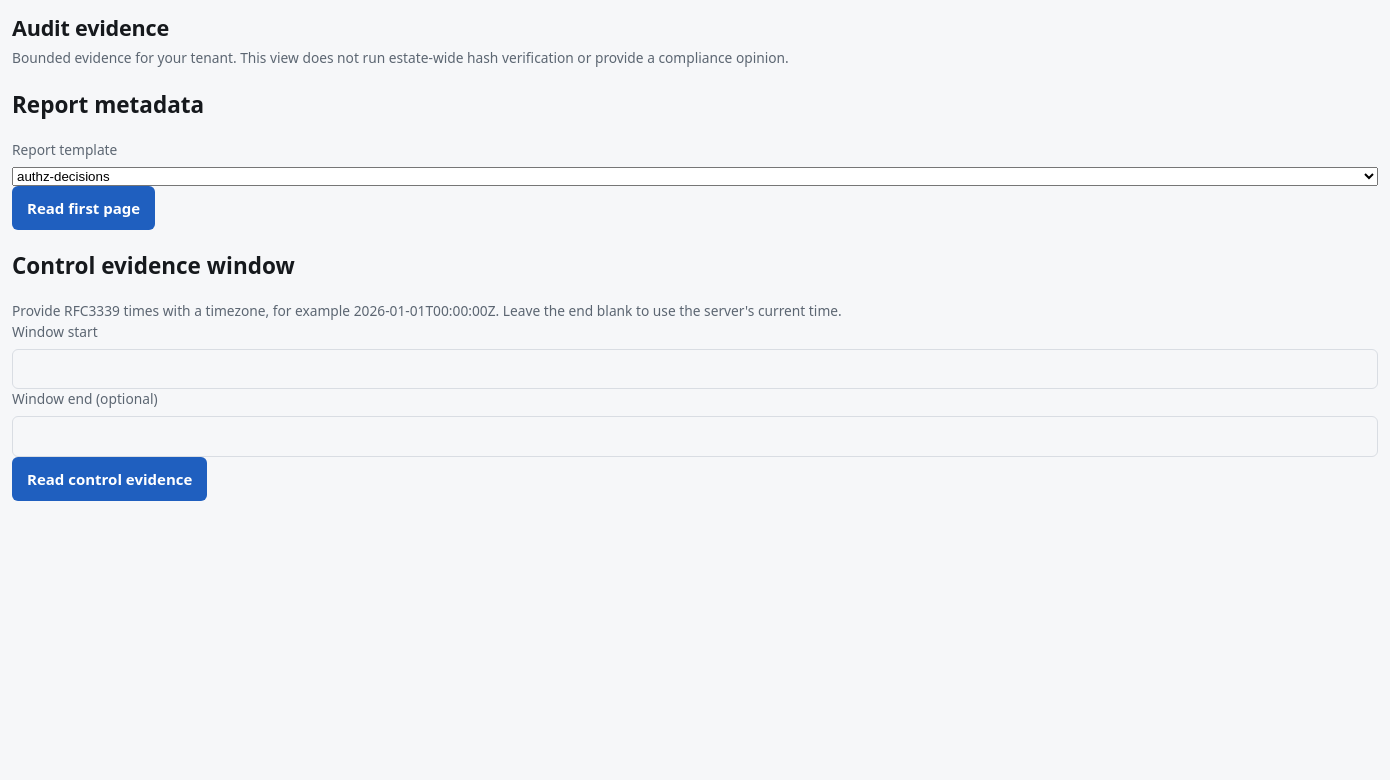
it: evidence view › renders zero evidence and gaps as unassessed, not a control failure or compliance pass
Type "2026-01-01T00:00:00Z" into the field named "window-start" at (695, 369), box [12,349,1378,389]
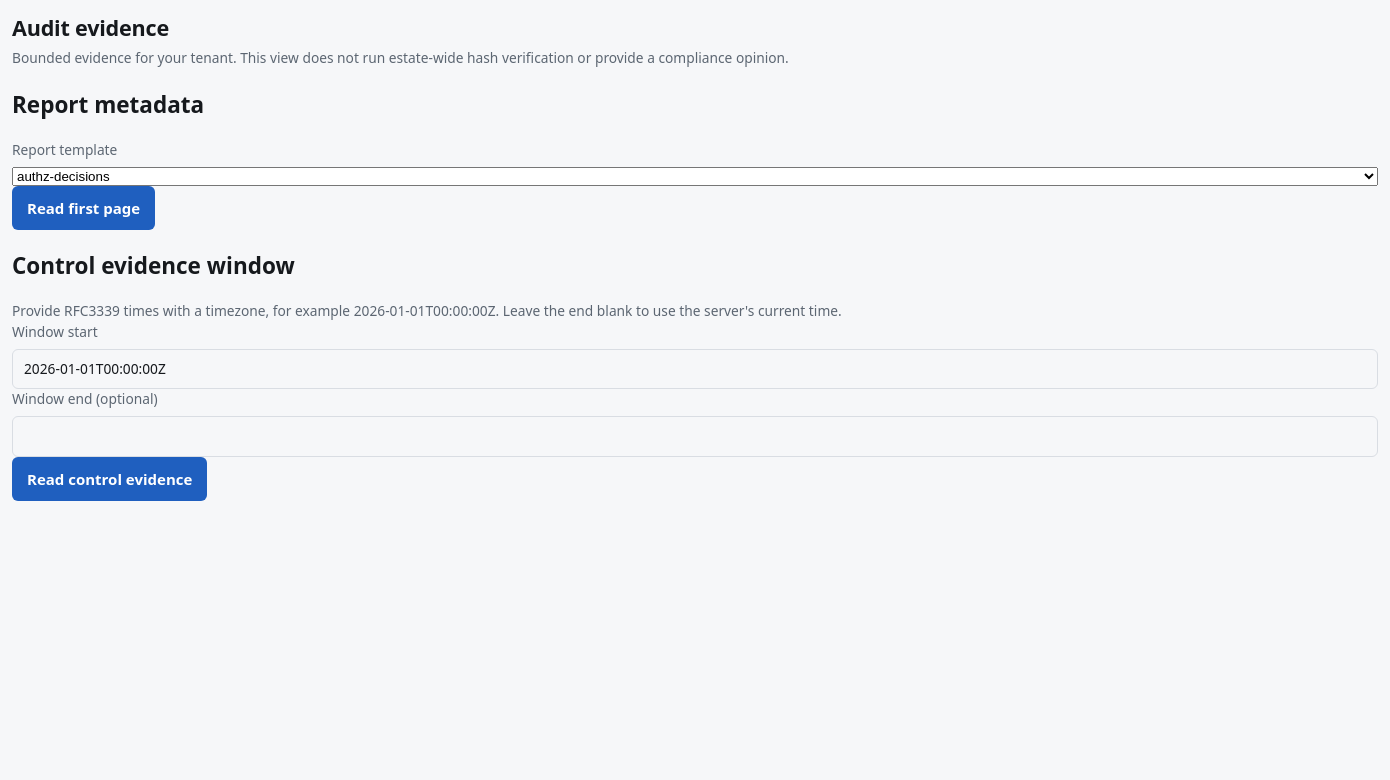
Submit the form "Window start Window end (optional) Read control evidence", box [12,322,1378,501]
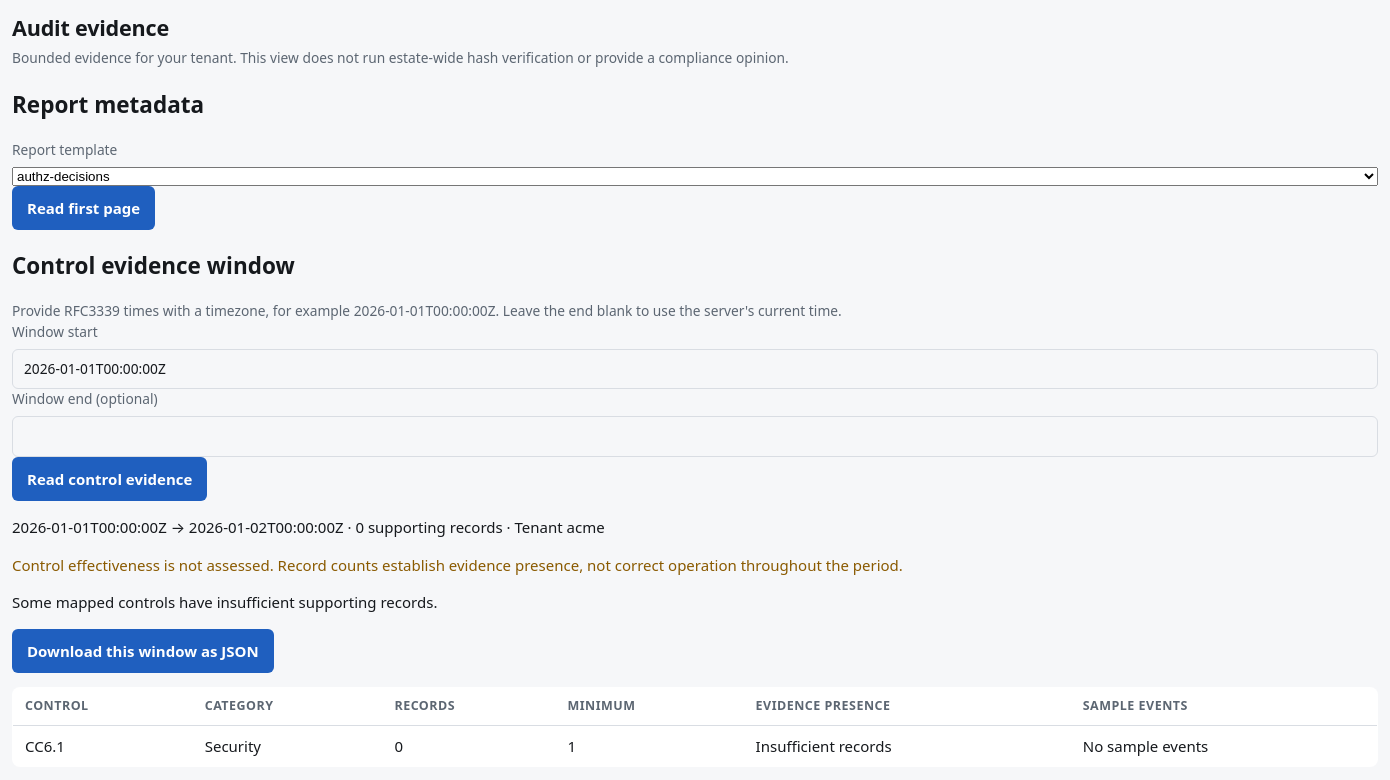
Expected: the text "Control effectiveness is not assessed" is shown, [12,554,903,574]
Expected: the text "Insufficient records" is shown, [744,725,1071,767]
Expected: the text "No sample events" is shown, [1083,736,1208,756]
